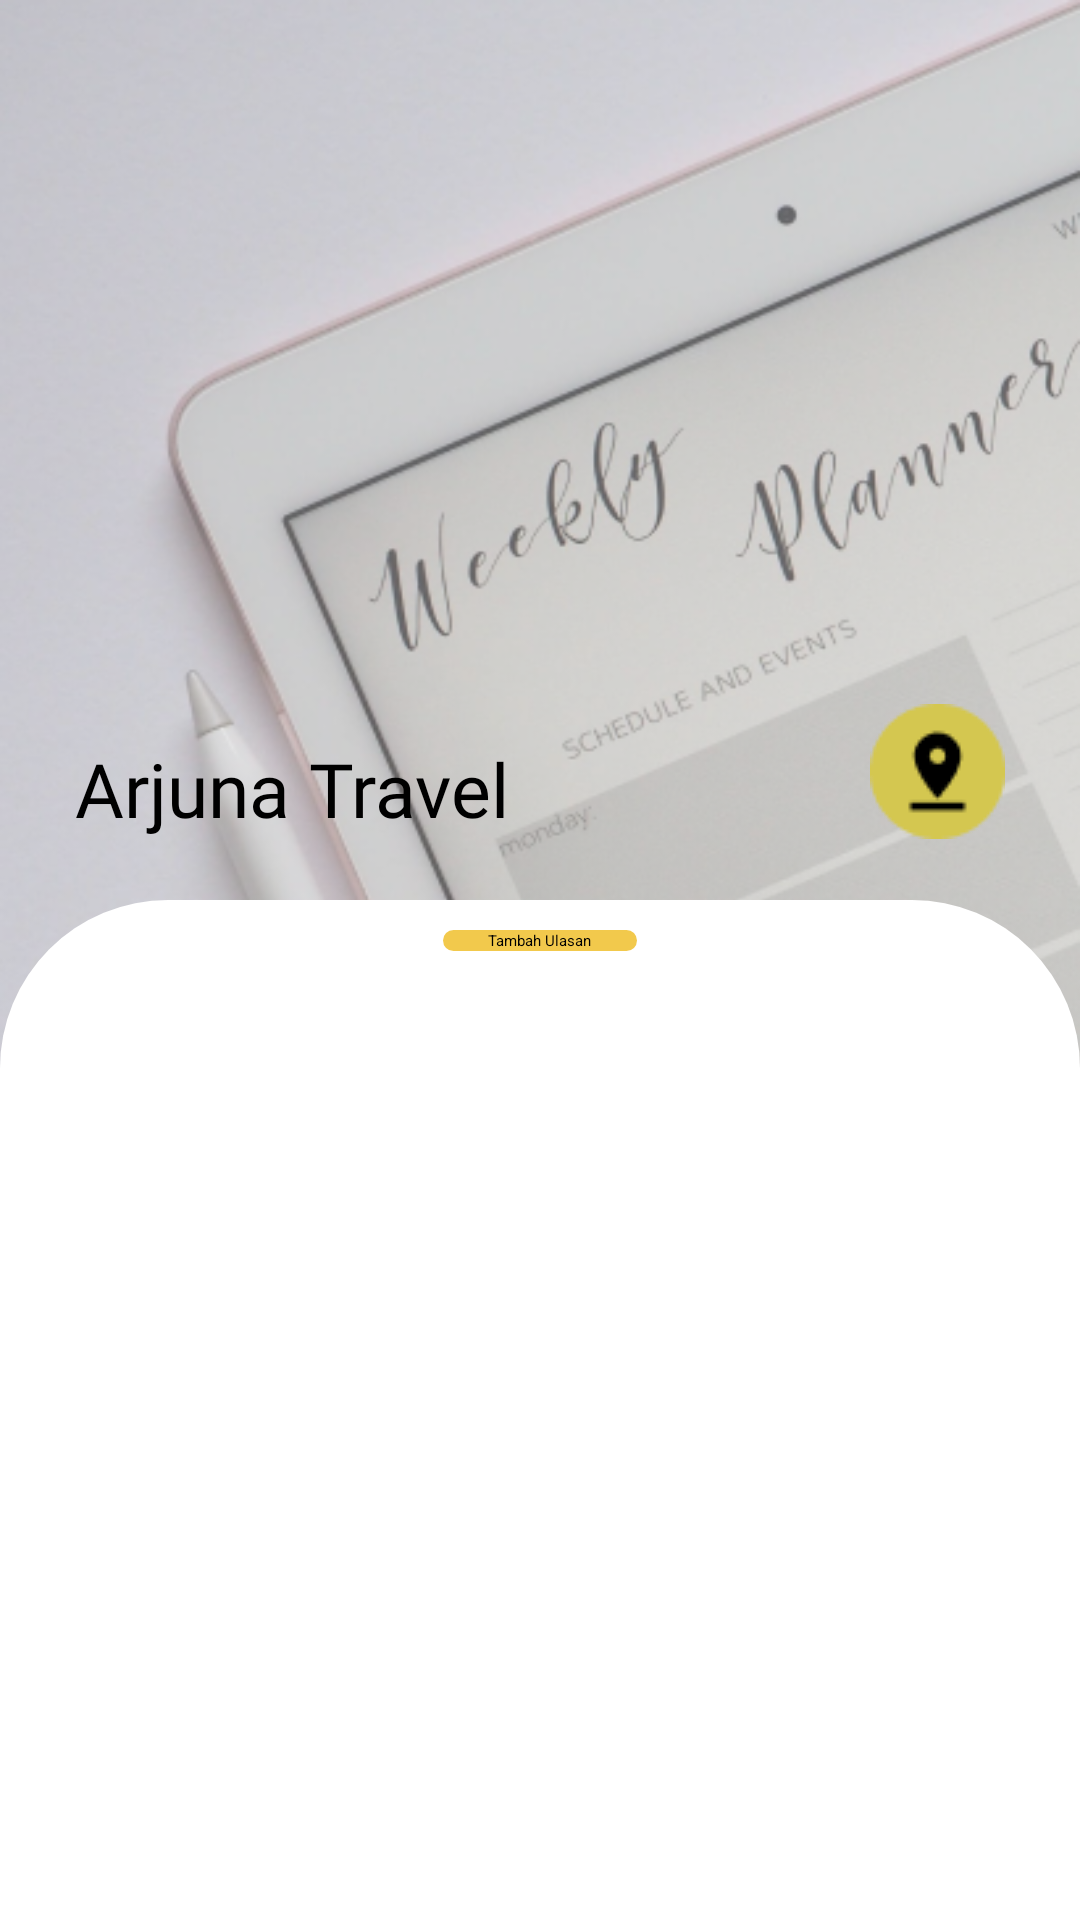

Icons on this 1080 x 1920 Android screen, each with its box as (x1=x1, y1=y1, x2=x2, y2=y2):
pinmap: (x1=870, y1=704, x2=1005, y2=839)
